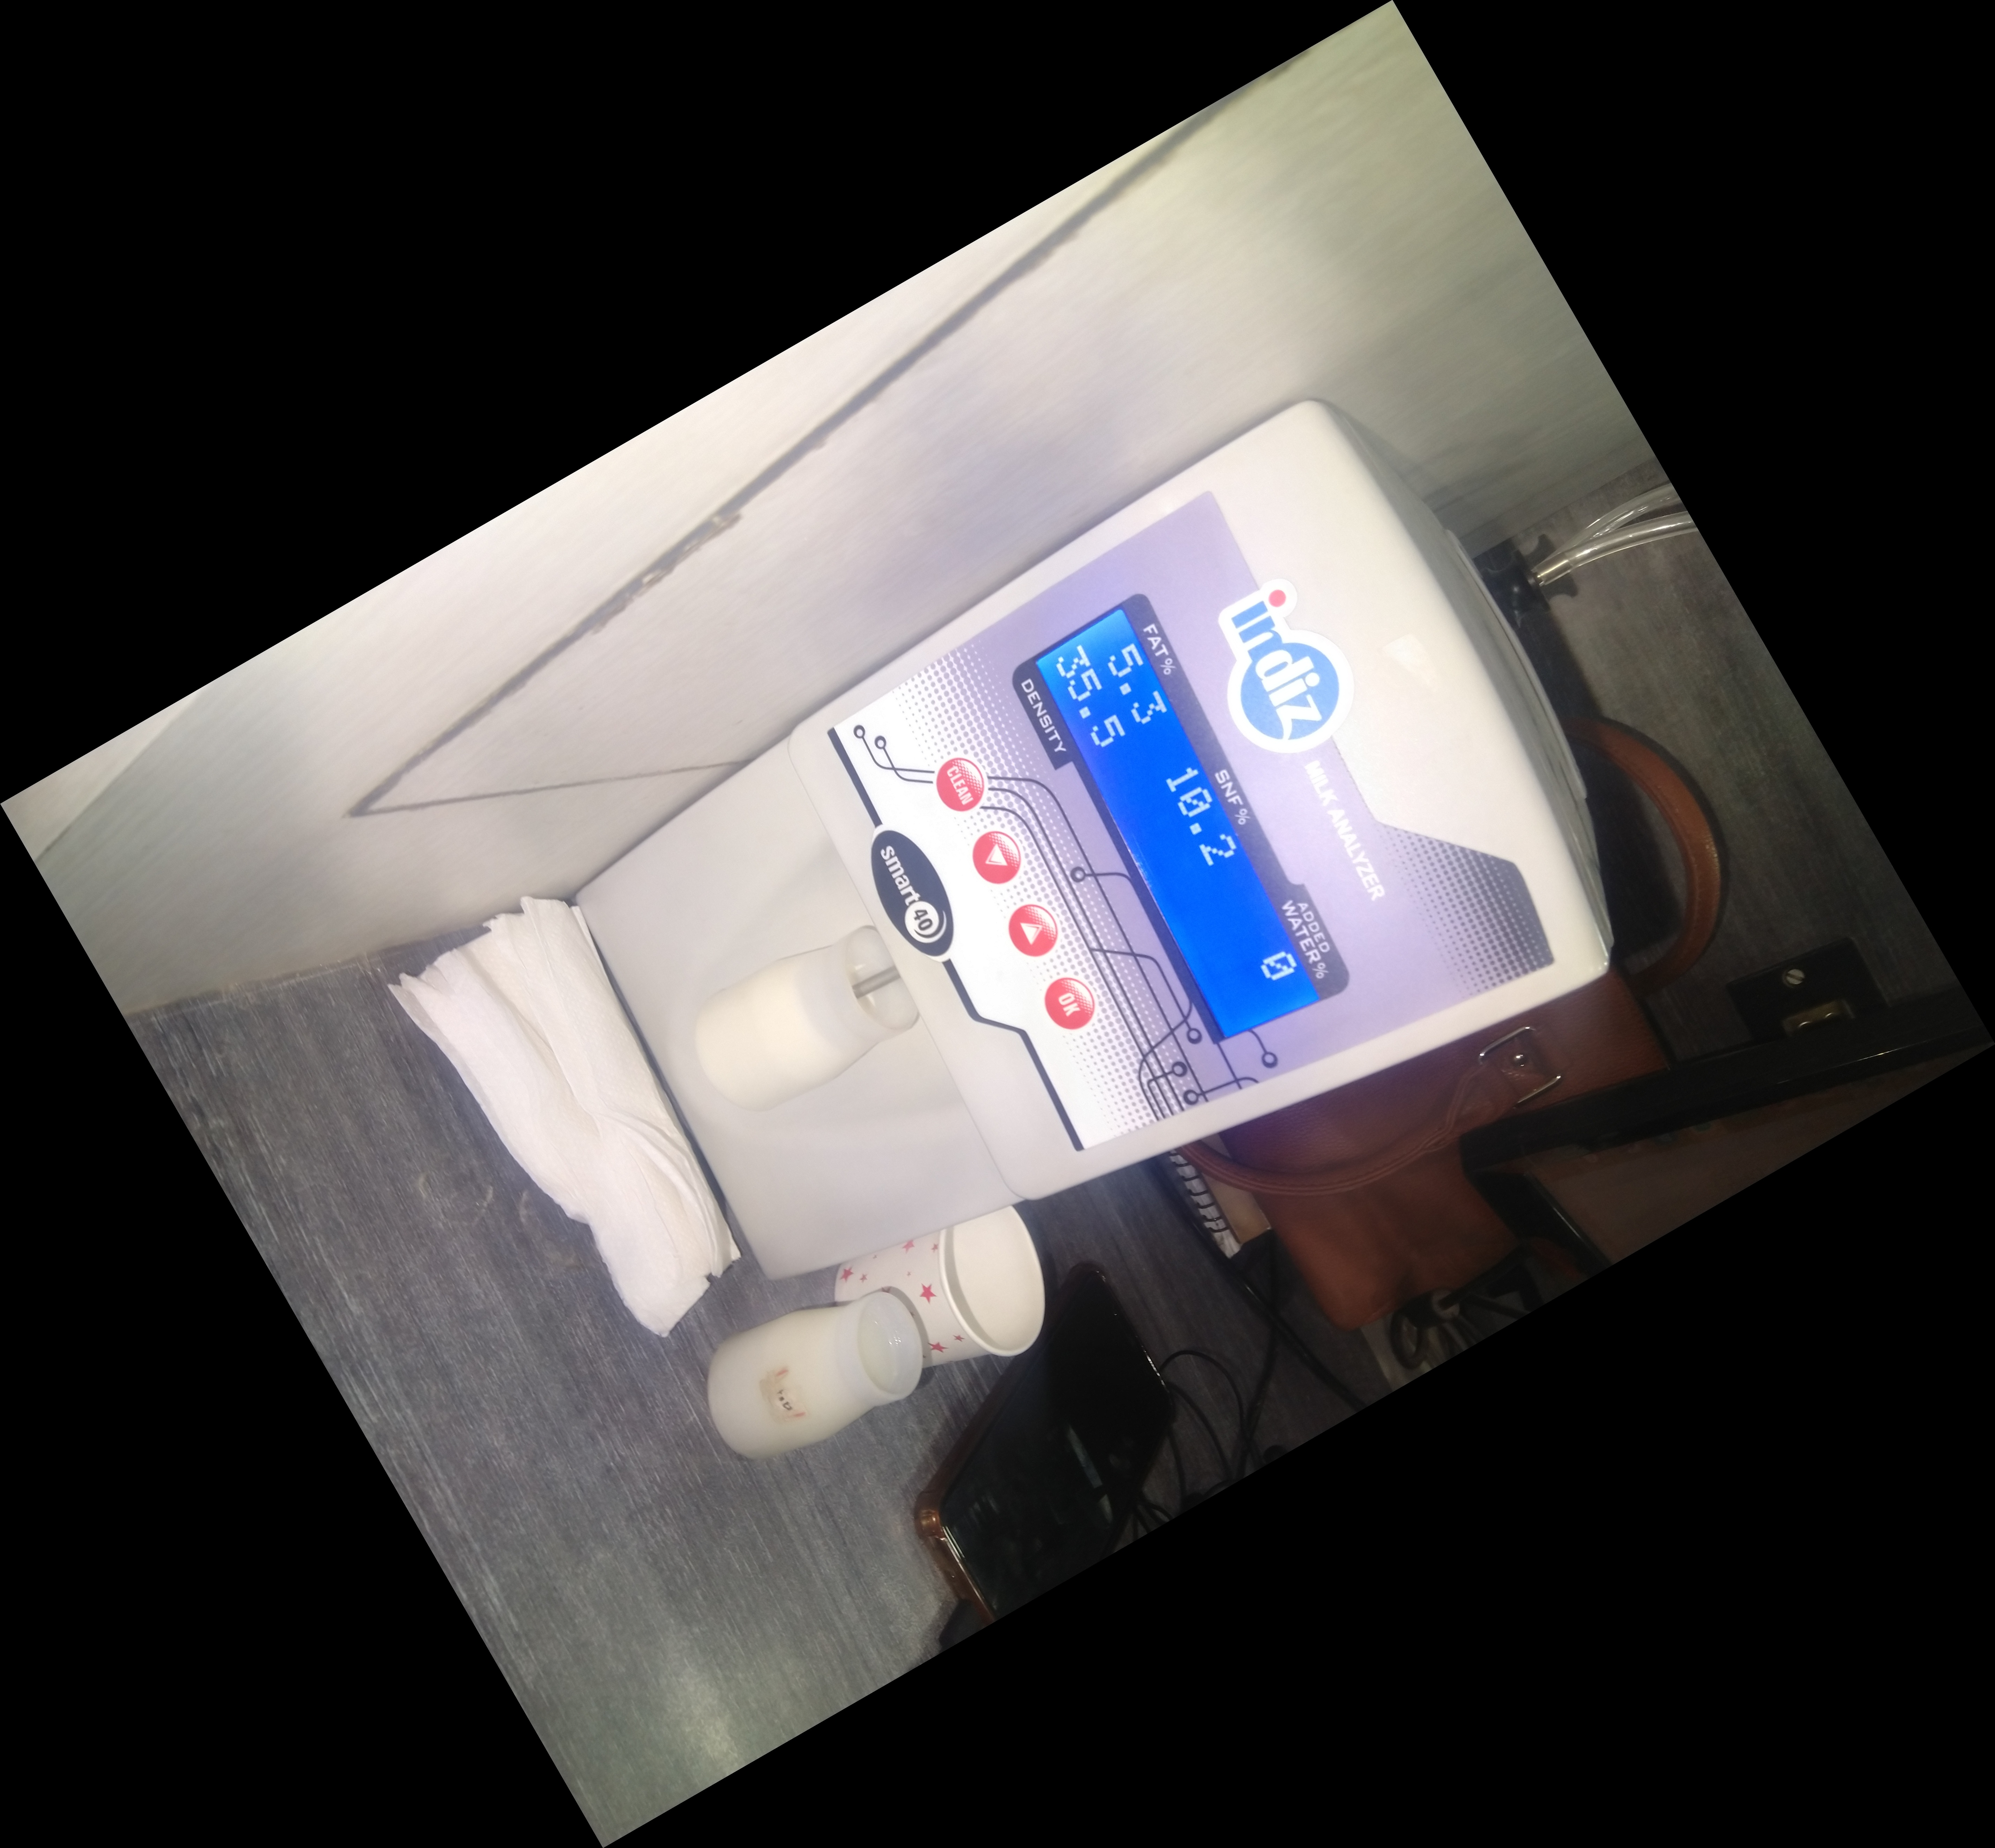lcd: (991, 575, 1371, 1040)
